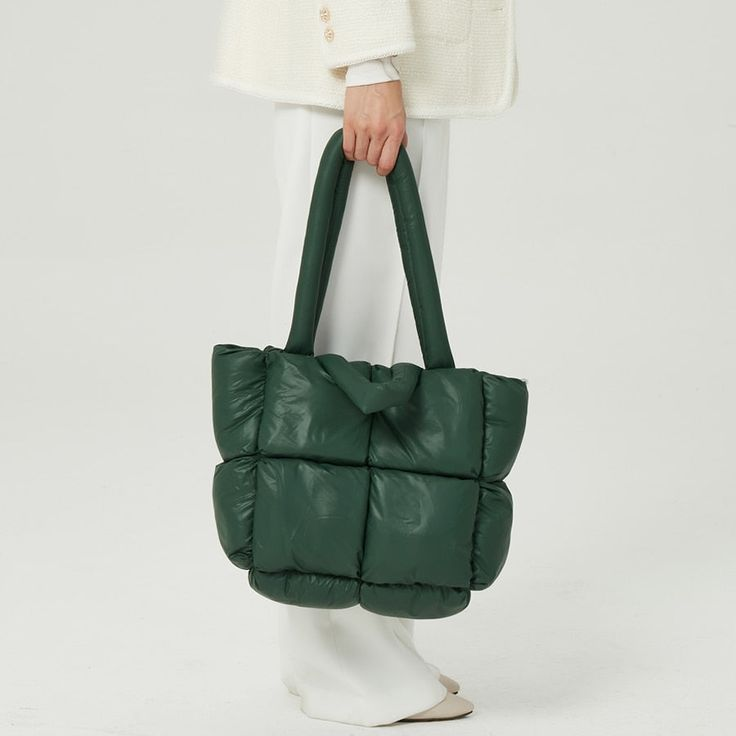nylon: (211, 343, 529, 619)
